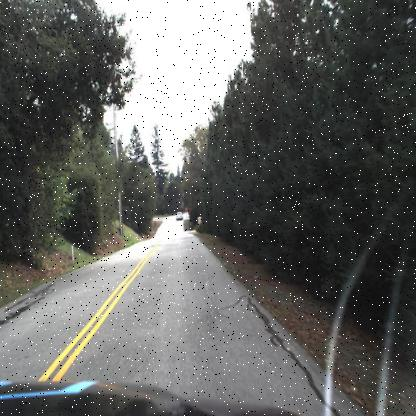car: (175, 204, 185, 224), (174, 207, 184, 225)
